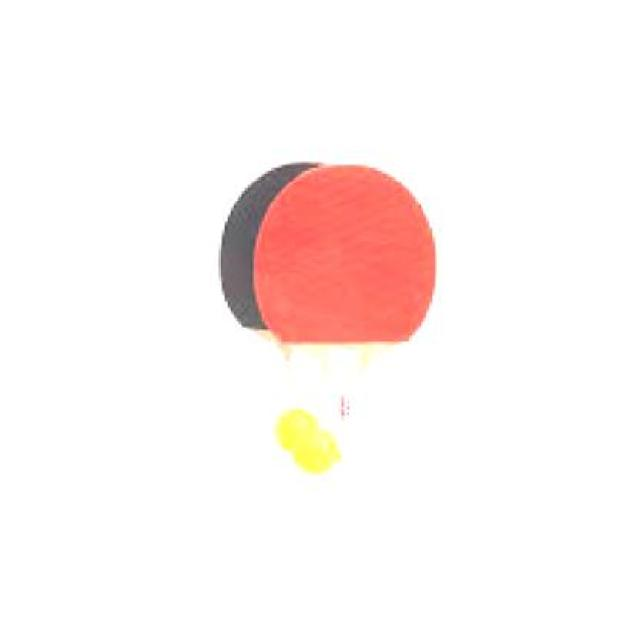table_tennis_racket: (258, 161, 452, 367), (194, 137, 329, 368)
